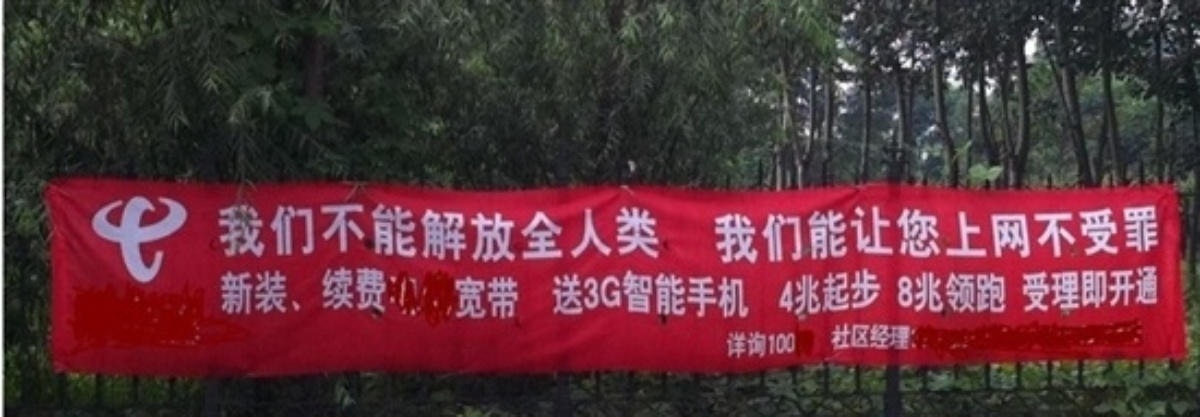text: (225, 204, 240, 265), (241, 204, 256, 265), (257, 204, 272, 265), (273, 204, 288, 265), (289, 204, 304, 265), (305, 204, 320, 265), (321, 204, 336, 265), (337, 204, 352, 265), (353, 204, 368, 265), (369, 204, 384, 265), (385, 204, 400, 265), (401, 204, 416, 265), (417, 204, 432, 265), (433, 204, 448, 265), (449, 204, 464, 265), (465, 204, 480, 265), (481, 204, 496, 265), (497, 204, 512, 265), (513, 204, 528, 265), (529, 204, 544, 265), (545, 204, 560, 265), (561, 204, 576, 265), (577, 204, 592, 265), (593, 204, 608, 265), (609, 204, 624, 265), (625, 204, 640, 265), (641, 204, 656, 265), (721, 204, 736, 265), (737, 204, 752, 265), (753, 204, 768, 265), (769, 204, 784, 265), (785, 204, 800, 265), (801, 204, 816, 265), (817, 204, 832, 265), (833, 204, 848, 265), (849, 204, 864, 265), (865, 204, 880, 265), (881, 204, 896, 265), (897, 204, 912, 265), (913, 204, 928, 265), (929, 204, 944, 265), (945, 204, 960, 265), (961, 204, 976, 265), (977, 204, 992, 265), (993, 204, 1008, 265), (1009, 204, 1024, 265), (1025, 204, 1040, 265), (1041, 204, 1056, 265), (1057, 204, 1072, 265), (1073, 204, 1088, 265), (1089, 204, 1104, 265), (1105, 204, 1120, 265), (1121, 204, 1136, 265), (1137, 204, 1152, 265), (785, 267, 800, 319), (801, 267, 816, 319), (817, 267, 832, 319), (833, 267, 848, 319), (849, 267, 864, 319), (865, 267, 880, 319), (561, 269, 576, 319), (577, 269, 592, 319), (593, 269, 608, 319), (609, 269, 624, 319), (625, 269, 640, 319), (641, 269, 656, 319), (657, 269, 672, 319), (673, 269, 688, 319), (689, 269, 704, 319), (705, 269, 720, 319), (721, 269, 736, 319), (225, 267, 240, 315), (241, 267, 256, 315), (257, 267, 272, 315), (273, 267, 288, 315), (289, 267, 304, 315), (305, 267, 320, 315), (321, 267, 336, 315), (337, 267, 352, 315), (353, 267, 368, 315), (369, 267, 384, 315), (465, 276, 480, 324), (481, 276, 496, 324), (497, 276, 512, 324), (1025, 265, 1040, 313), (1041, 265, 1056, 313), (1057, 265, 1072, 313), (1073, 265, 1088, 313), (1089, 265, 1104, 313), (1105, 265, 1120, 313), (1121, 265, 1136, 313), (1137, 265, 1152, 313), (737, 269, 751, 319), (897, 271, 912, 315), (913, 271, 928, 315), (929, 271, 944, 315), (945, 271, 960, 315), (961, 271, 976, 315), (977, 271, 992, 315), (214, 204, 224, 265), (993, 271, 1006, 315), (550, 269, 560, 319), (1153, 204, 1161, 265), (454, 276, 464, 324), (775, 267, 784, 319), (833, 321, 848, 352), (849, 321, 864, 352), (865, 321, 880, 352), (881, 321, 896, 352), (897, 321, 912, 352), (737, 330, 752, 361), (753, 330, 768, 361), (769, 330, 784, 361), (785, 330, 799, 361), (513, 276, 522, 324), (657, 204, 664, 265), (714, 204, 720, 265), (725, 330, 736, 361), (1153, 265, 1159, 313), (219, 267, 224, 315), (1019, 265, 1024, 313), (385, 267, 389, 315), (913, 321, 917, 352), (881, 267, 882, 319), (895, 271, 896, 315)
